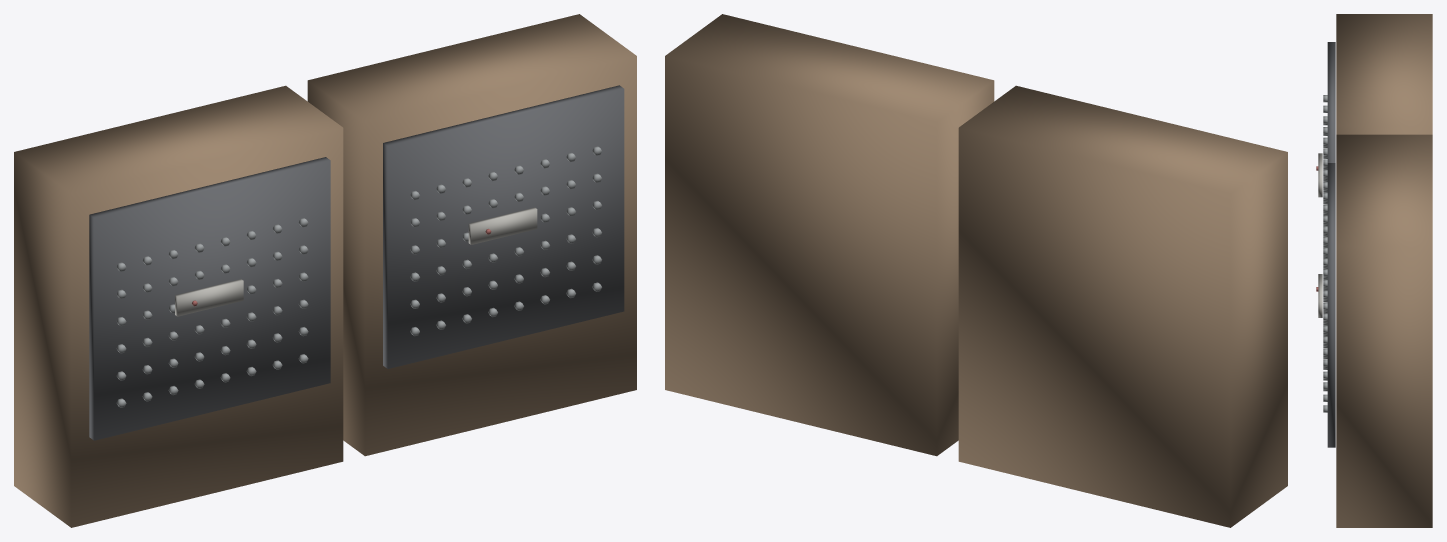
File: telephone_switchboard__cluster.glb
3 views of the same model, side by side, from view 1: azimuth 30°, elevation 25°; view 2: azimuth 150°, elevation 25°; view 3: azimuth 270°, elevation 25° (orthographic). The views are drawn at different scales.
Parts seen in each view (by area): view 1: world; view 2: world; view 3: world.
Part boxes in pixels (box(x1,y1,x2,y2)): world: box(14, 14, 636, 527); world: box(665, 14, 1287, 527); world: box(1316, 14, 1432, 527).
Size of the model in its own units: 2.39 by 1.35 by 0.507.
